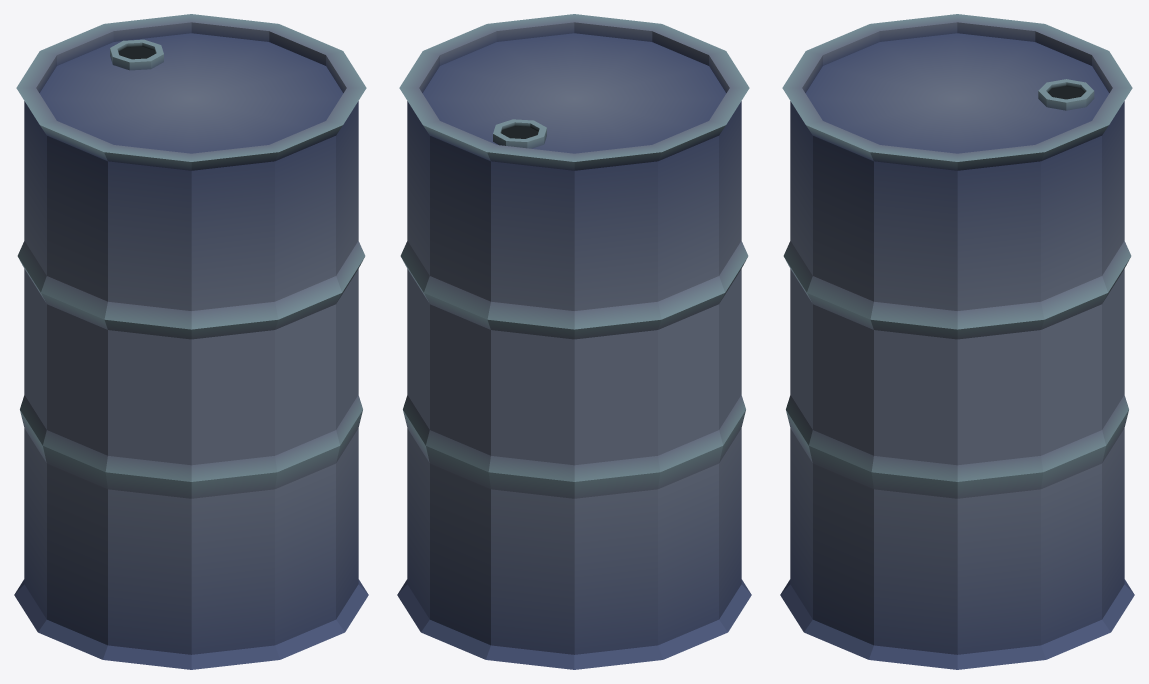
Rendered from Oil Barrel.fbx.
The picture shows the model from 3 angles, left to right: view 1: azimuth 30°, elevation 25°; view 2: azimuth 150°, elevation 25°; view 3: azimuth 270°, elevation 25°; orthographic projection.
Visible parts, largest first — view 1: Oil Barrel; view 2: Oil Barrel; view 3: Oil Barrel.
Part boxes in pixels (x1,y1,x2,y2): Oil Barrel: (14,14,368,669); Oil Barrel: (397,14,751,669); Oil Barrel: (780,14,1134,669).
Bounding box in the file's own units: 77.32 × 122 × 77.32.
